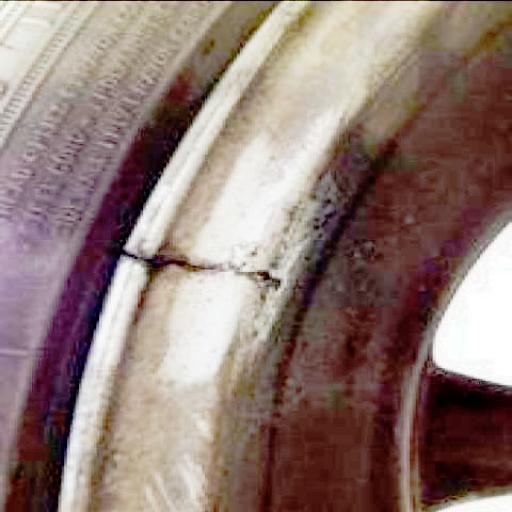crack: (119, 231, 312, 299)
